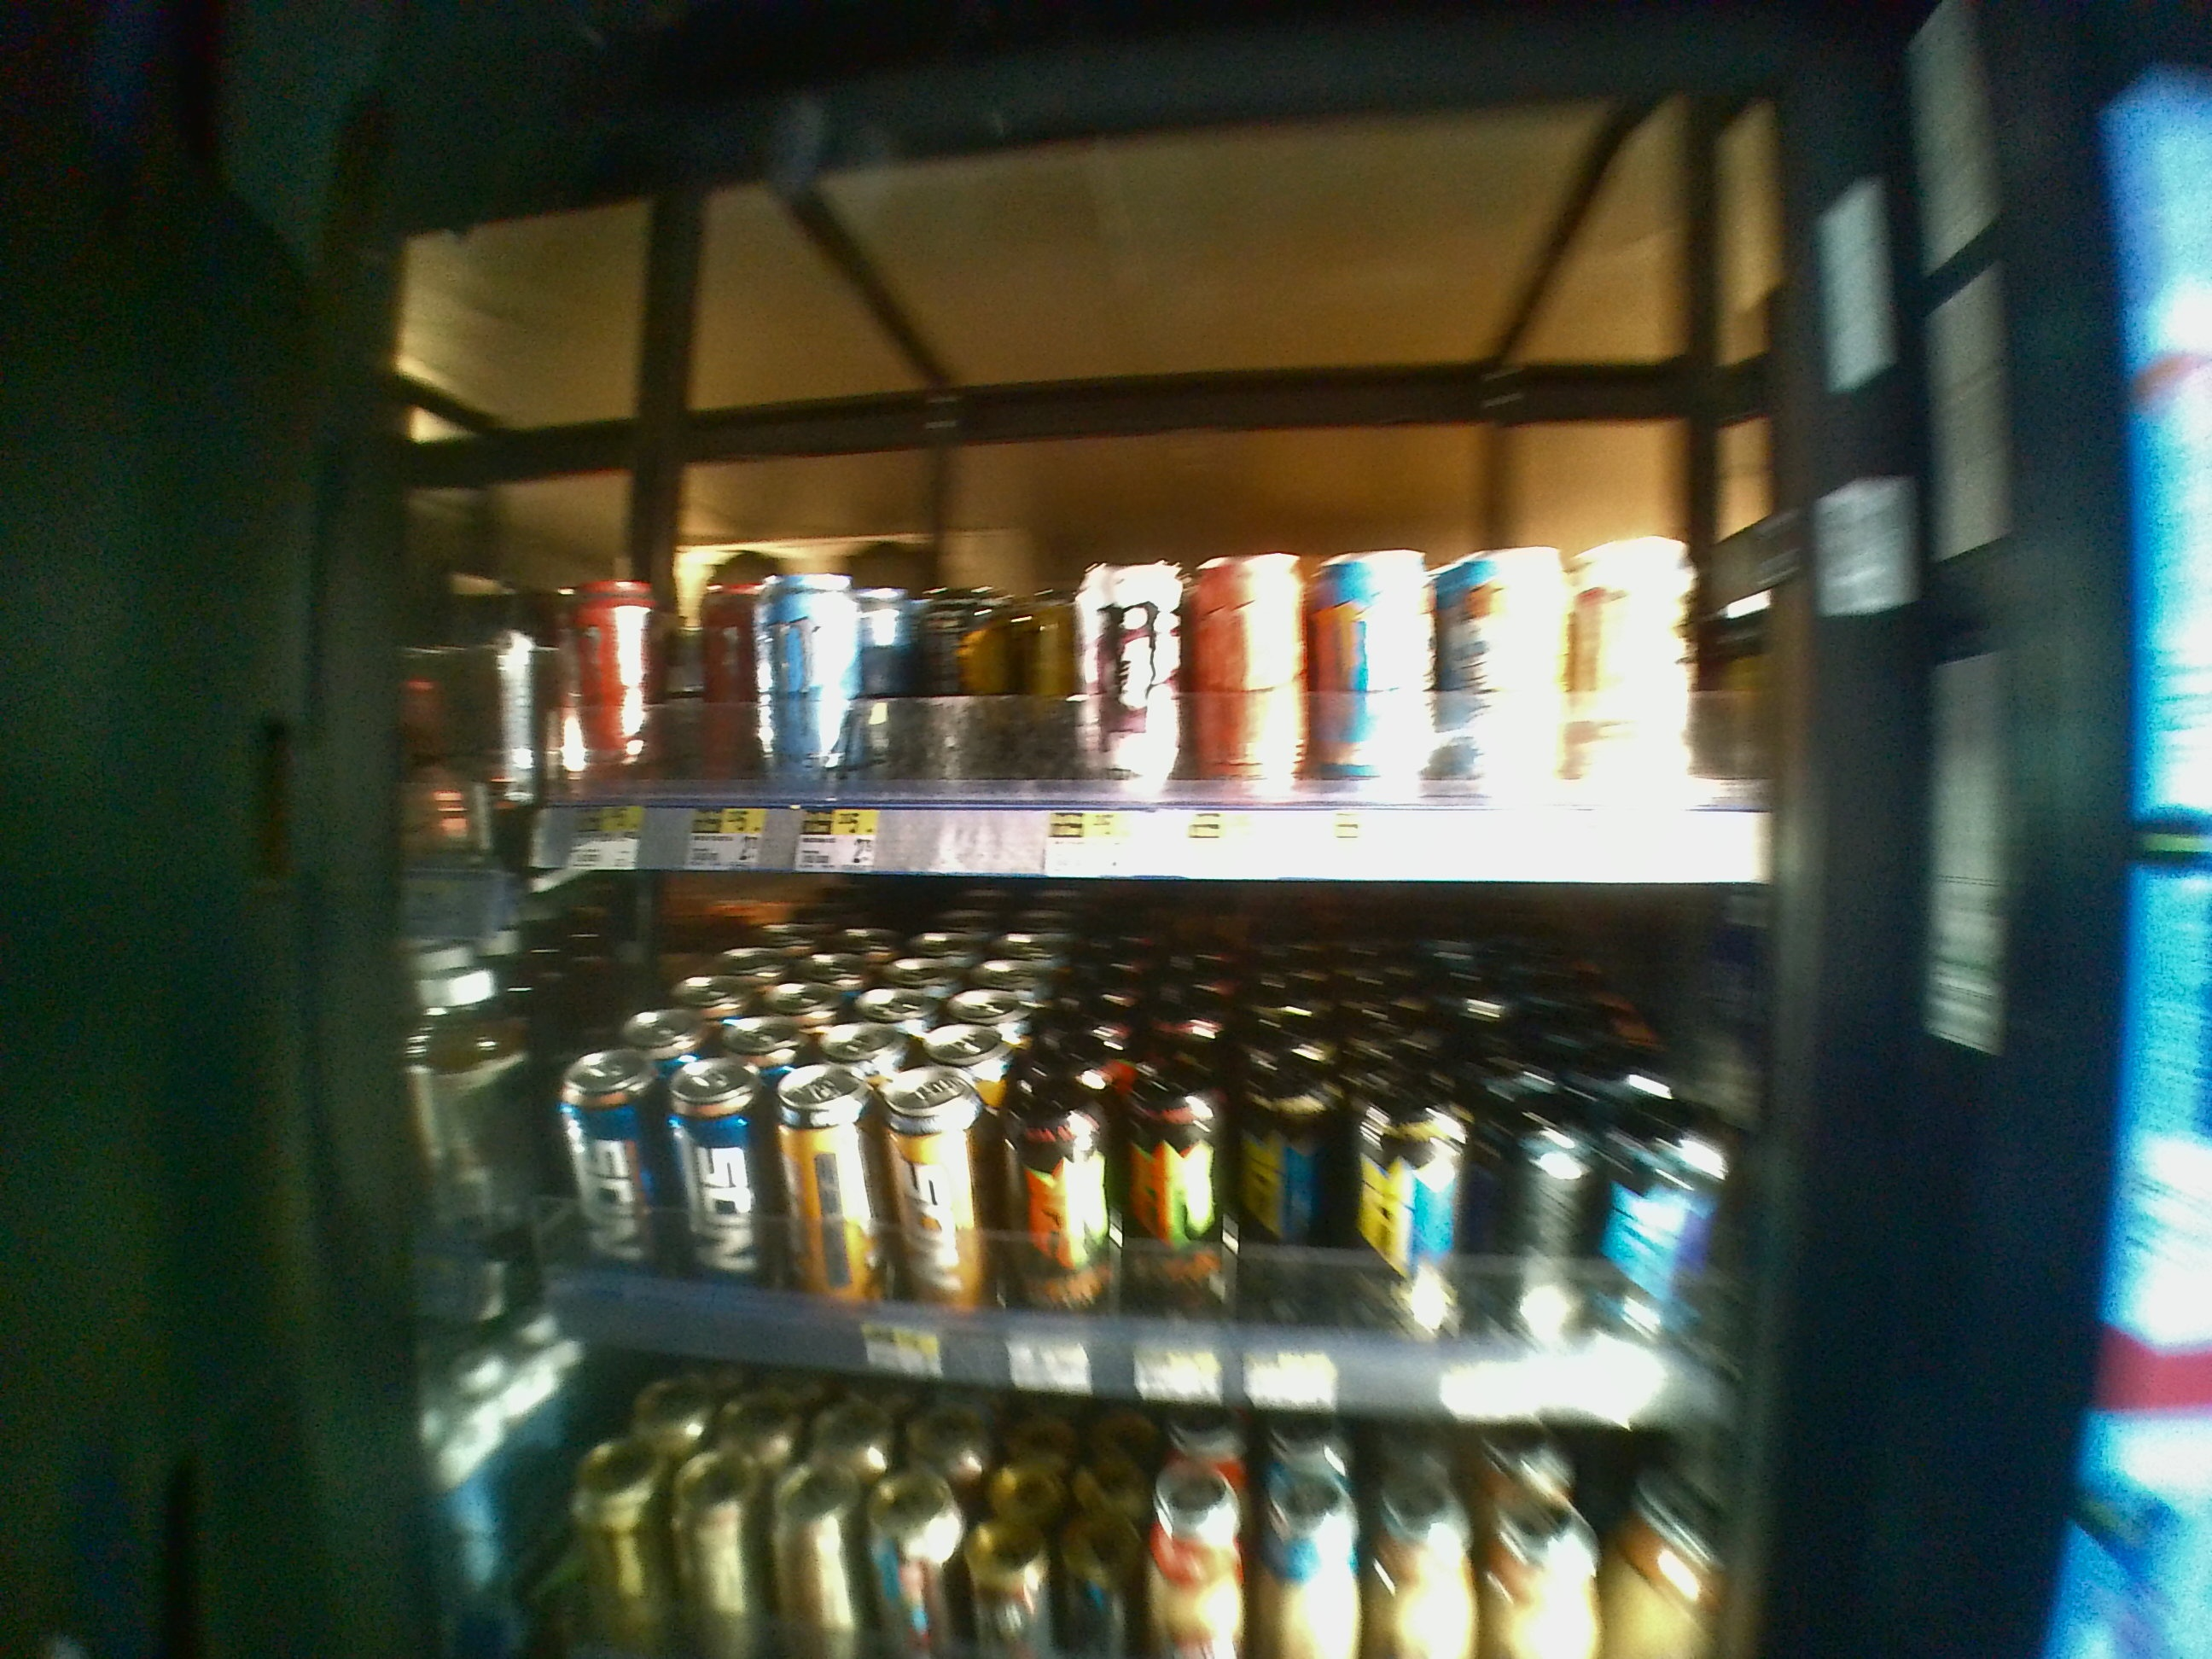shelf: (395, 227, 1824, 887), (388, 875, 1777, 1410)
